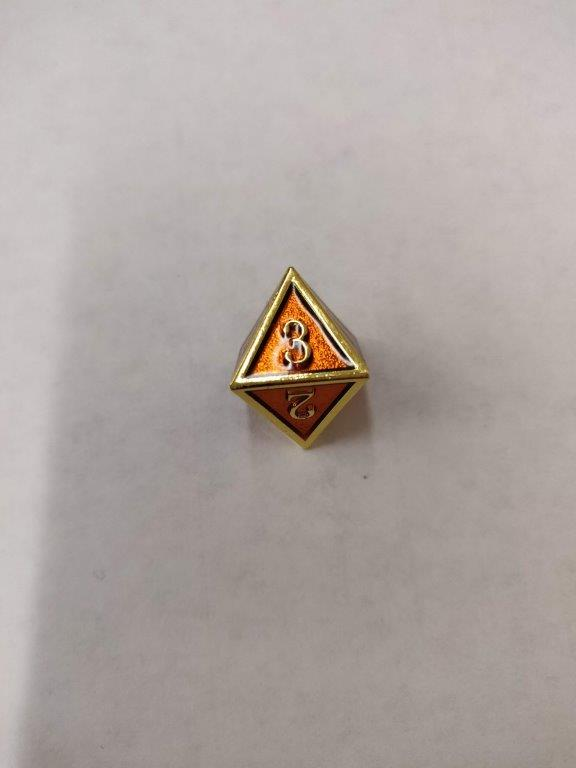d8-3: (231, 265, 368, 453)
